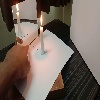fire: (40, 13, 44, 30)
